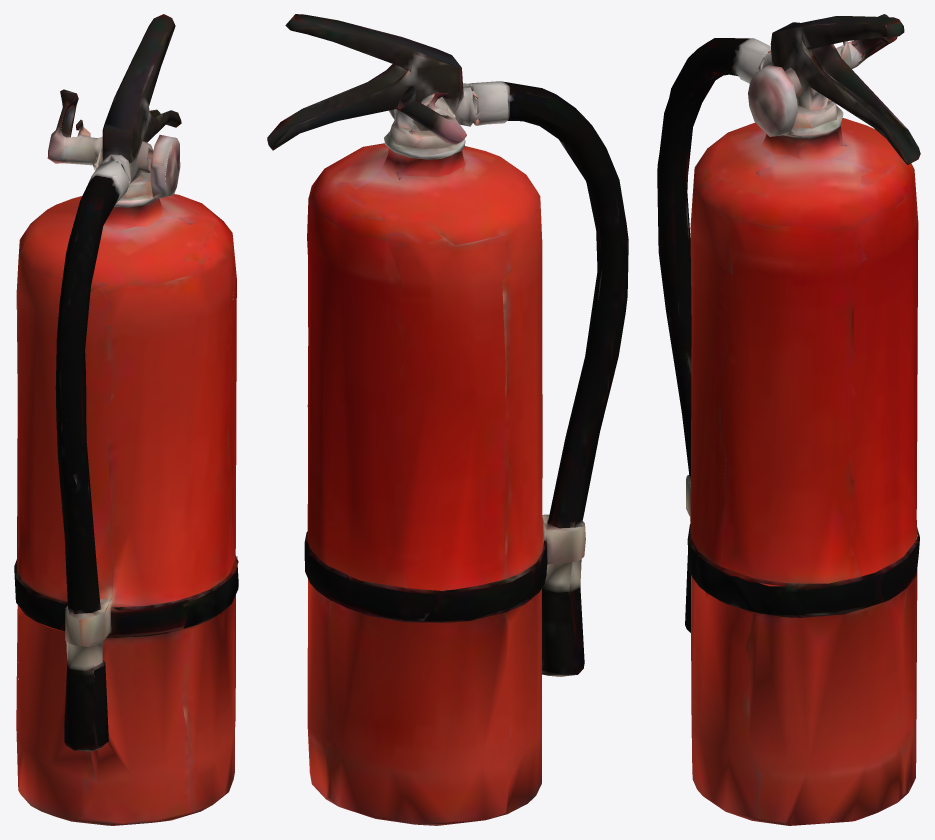
Rendered from extintor.movil.glb.
3 views of the same model, side by side, from view 1: azimuth 30°, elevation 25°; view 2: azimuth 150°, elevation 25°; view 3: azimuth 270°, elevation 25° (orthographic). The views are drawn at different scales.
Parts seen in each view (by area): view 1: geometry_0; view 2: geometry_0; view 3: geometry_0.
Boxes of the visible parts, left/top/right/bottom form: geometry_0: left=14, top=14, right=238, bottom=825; geometry_0: left=267, top=14, right=628, bottom=825; geometry_0: left=657, top=14, right=920, bottom=825.
Size of the model in its own units: 0.1991 by 0.599 by 0.1793.
Materials: 1 (1 with a texture image).
